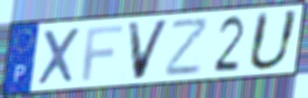2: (213, 14, 248, 75)
F: (80, 23, 125, 83)
U: (245, 8, 302, 73)
V: (125, 18, 173, 82)
X: (35, 26, 82, 87)
Z: (163, 15, 212, 79)
